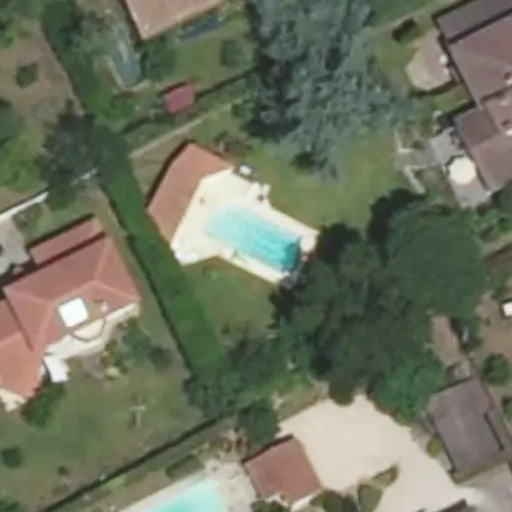pool: (204, 206, 300, 274), (155, 478, 232, 512)
